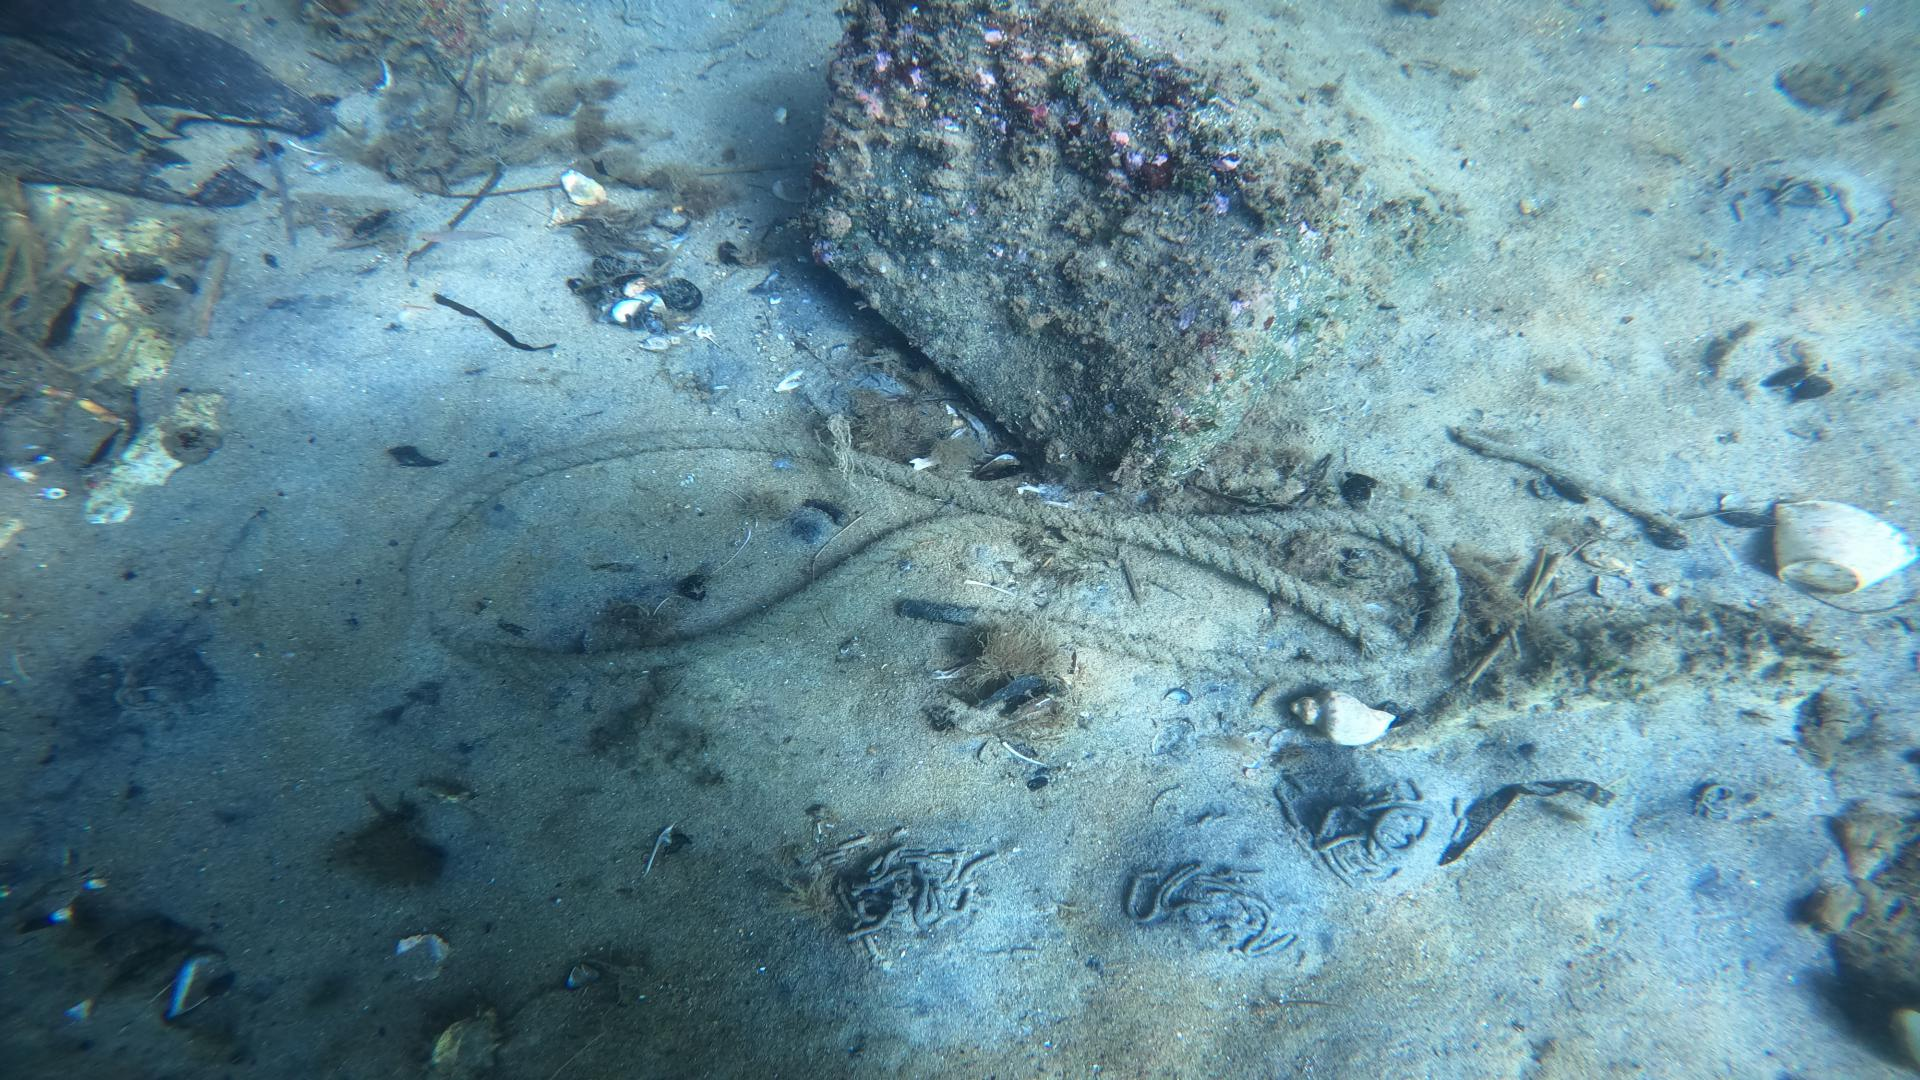bundle of ropes: (397, 423, 1465, 676)
